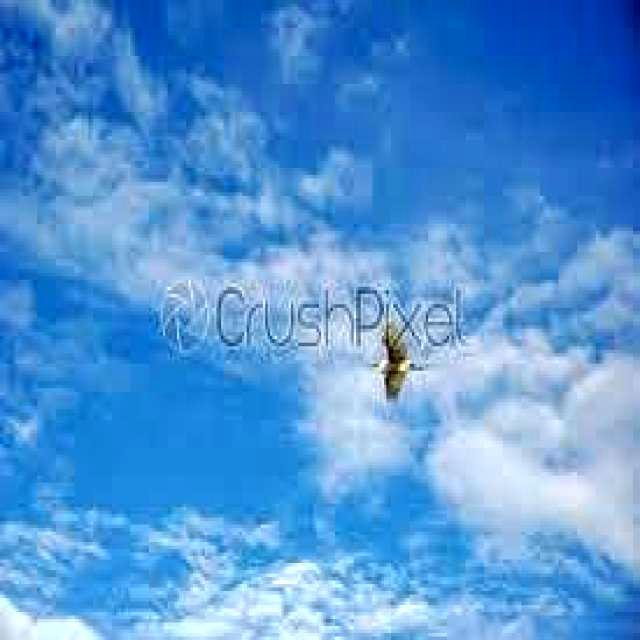bird: (374, 321, 437, 413)
